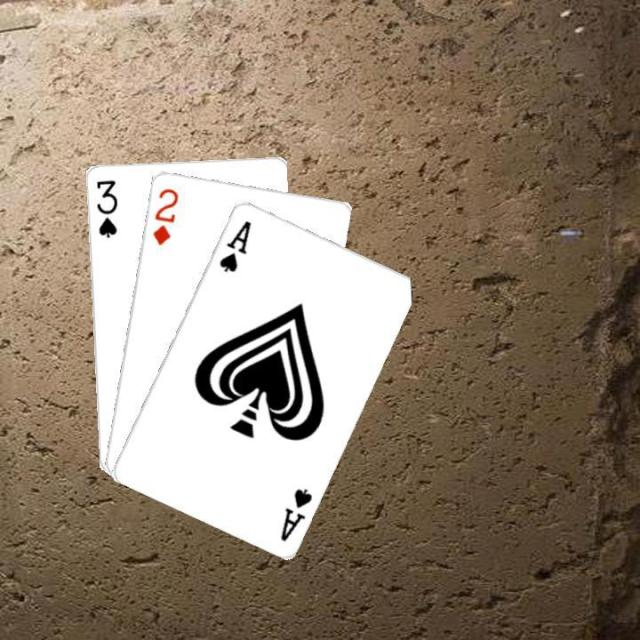2D: (148, 184, 180, 246)
3S: (92, 175, 118, 239)
AS: (276, 484, 314, 543), (215, 216, 253, 274)
